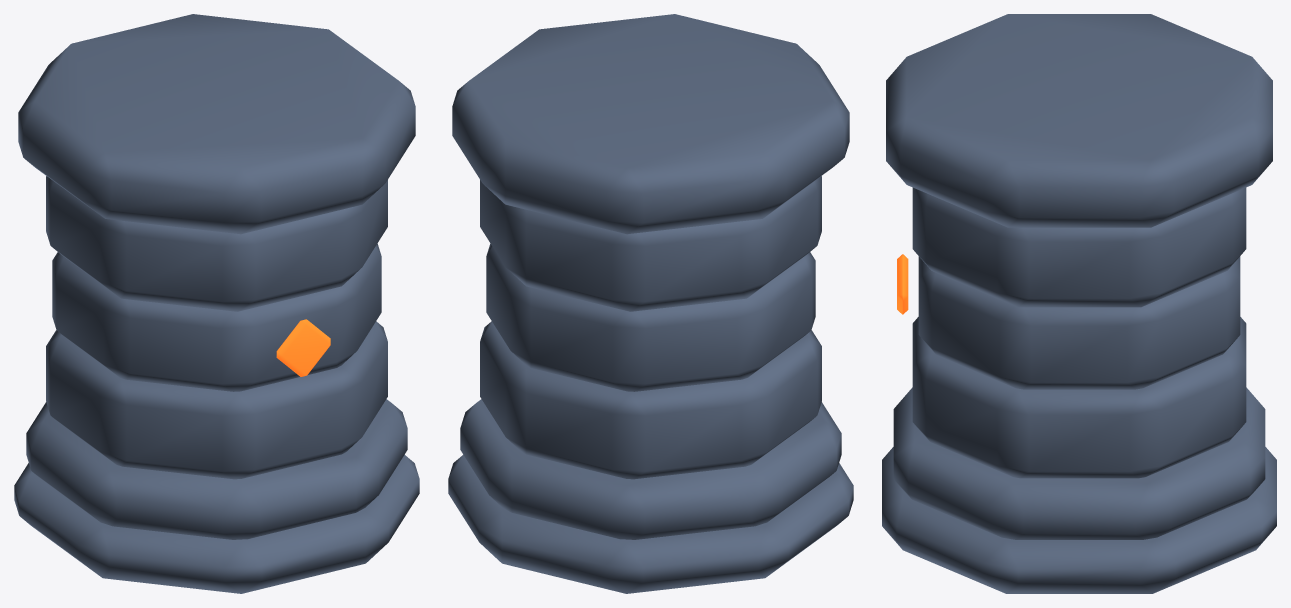
Rendered from Wardstone.fbx.
3 renders of one model, left to right at view 1: azimuth 30°, elevation 25°; view 2: azimuth 150°, elevation 25°; view 3: azimuth 270°, elevation 25°, orthographic.
Visible parts, largest first — view 1: Wardstone_Mesh; view 2: Wardstone_Mesh; view 3: Wardstone_Mesh.
Boxes of the visible parts, left/top/right/bottom form: Wardstone_Mesh: left=14, top=14, right=419, bottom=593; Wardstone_Mesh: left=448, top=14, right=853, bottom=593; Wardstone_Mesh: left=882, top=14, right=1276, bottom=593.
Bounding box in the file's own units: 1.9 × 2.3 × 1.9.
